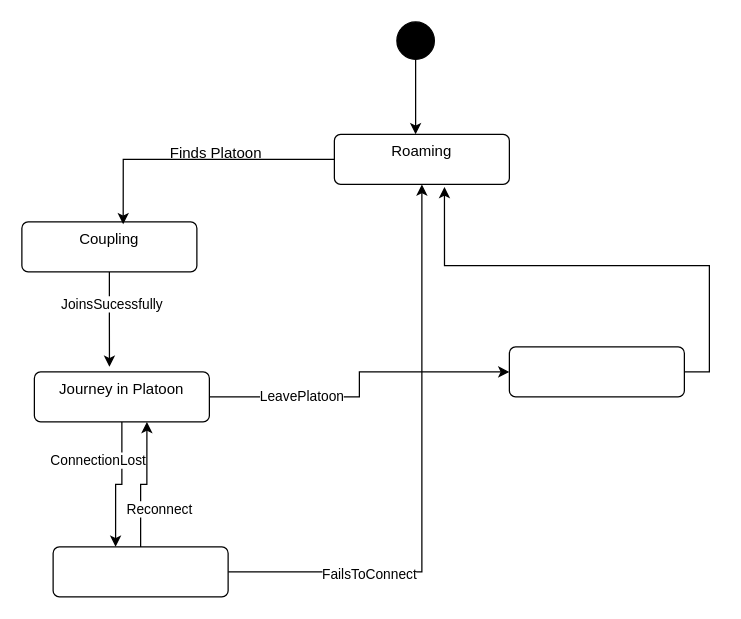
Some shapes in this 741 by 619 pixel diagram are drawn without their labels. The centre of each missing label's shape, as x and y in pixels:
Decoupling: (x=596, y=371)
Disconnect: (x=140, y=571)
